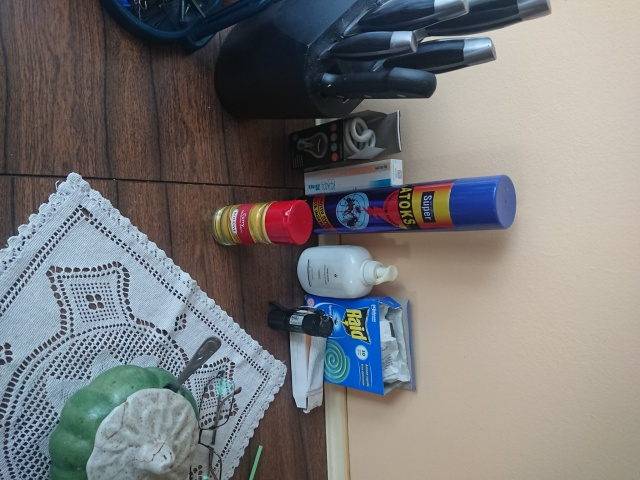Kotanyi Curry Spices Mix 70g: (210, 197, 315, 248)
